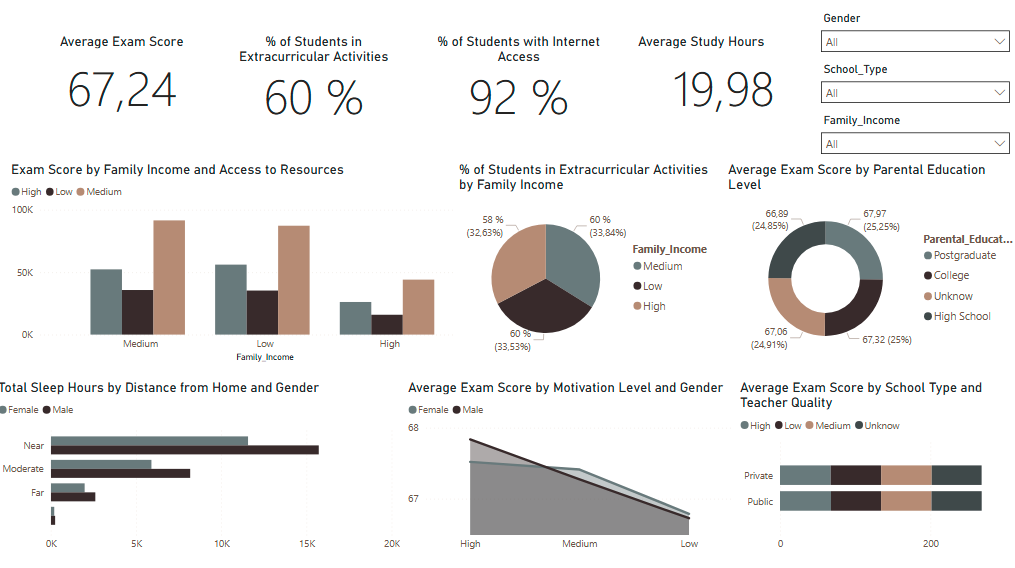

This screenshot's page, from the dashboard's own definition file:
{"tool":"powerbi","page":{"name":"Page 1","canvas":[1280,720],"ordinal":0},"visuals":[{"type":"card","title":"Average Exam Score","fields":{"Values":["Avg(StudentPerformanceFactors.Exam_Score)"]},"box":[48,48,224,112],"z":0},{"type":"card","title":"% of Students in Extracurricular Activities","fields":{"Values":["StudentPerformanceFactors.- % d'étudiants ayant des activités extra-scolaires"]},"box":[288,48,224,112],"z":1000},{"type":"card","title":"% of Students with Internet Access","fields":{"Values":["StudentPerformanceFactors.- % d'étudiants avec accès à Internet"]},"box":[544,48,224,112],"z":2000},{"type":"card","title":"Average Study Hours","fields":{"Values":["Avg(StudentPerformanceFactors.Hours_Studied)"]},"box":[800,48,224,112],"z":3000},{"type":"clusteredColumnChart","title":"Exam Score by Family Income and Access to Resources","fields":{"Category":["StudentPerformanceFactors.Family_Income"],"Series":["StudentPerformanceFactors.Access_to_Resources"],"Y":["Sum(StudentPerformanceFactors.Exam_Score)"]},"box":[16,208,608,256],"z":4000},{"type":"pieChart","title":"% of Students in Extracurricular Activities by Family Income","fields":{"Category":["StudentPerformanceFactors.Family_Income"],"Y":["StudentPerformanceFactors.- % d'étudiants ayant des activités extra-scolaires"]},"box":[576,208,336,256],"z":5000},{"type":"donutChart","title":"Average Exam Score by Parental Education Level","fields":{"Category":["StudentPerformanceFactors.Parental_Education_Level"],"Y":["Avg(StudentPerformanceFactors.Exam_Score)"]},"box":[912,208,368,256],"z":6000},{"type":"clusteredBarChart","title":"Total Sleep Hours by Distance from Home and Gender","fields":{"Category":["StudentPerformanceFactors.Distance_from_Home"],"Series":["StudentPerformanceFactors.Gender"],"Y":["Sum(StudentPerformanceFactors.Sleep_Hours)"]},"box":[0,480,512,224],"z":7000},{"type":"areaChart","title":"Average Exam Score by Motivation Level and Gender","fields":{"Y":["Avg(StudentPerformanceFactors.Exam_Score)"],"Category":["StudentPerformanceFactors.Motivation_Level"],"Series":["StudentPerformanceFactors.Gender"]},"box":[512,480,416,224],"z":8000},{"type":"barChart","title":"Average Exam Score by School Type and Teacher Quality","fields":{"Category":["StudentPerformanceFactors.School_Type"],"Y":["Avg(StudentPerformanceFactors.Exam_Score)"],"Series":["StudentPerformanceFactors.Teacher_Quality"]},"box":[928,480,352,224],"z":9000},{"type":"slicer","fields":{"Values":["StudentPerformanceFactors.Gender"]},"box":[1024,16,256,64],"z":10000},{"type":"slicer","fields":{"Values":["StudentPerformanceFactors.School_Type"]},"box":[1024,80,256,64],"z":11000},{"type":"slicer","fields":{"Values":["StudentPerformanceFactors.Family_Income"]},"box":[1024,144,256,64],"z":12000}]}

Visuals, with their boxes in screenshot pixels (x1, y1, x2, y2), scaled from the page's 1280x720 canvas onto the 1015x568 screenshot:
"Average Exam Score" card: [x1=38, y1=38, x2=216, y2=126]
"% of Students in Extracurricular Activities" card: [x1=228, y1=38, x2=406, y2=126]
"% of Students with Internet Access" card: [x1=431, y1=38, x2=609, y2=126]
"Average Study Hours" card: [x1=634, y1=38, x2=812, y2=126]
"Exam Score by Family Income and Access to Resources" clusteredColumnChart: [x1=13, y1=164, x2=495, y2=366]
"% of Students in Extracurricular Activities by Family Income" pieChart: [x1=457, y1=164, x2=723, y2=366]
"Average Exam Score by Parental Education Level" donutChart: [x1=723, y1=164, x2=1014, y2=366]
"Total Sleep Hours by Distance from Home and Gender" clusteredBarChart: [x1=0, y1=379, x2=406, y2=555]
"Average Exam Score by Motivation Level and Gender" areaChart: [x1=406, y1=379, x2=736, y2=555]
"Average Exam Score by School Type and Teacher Quality" barChart: [x1=736, y1=379, x2=1014, y2=555]
slicer - StudentPerformanceFactors.Gender: [x1=812, y1=13, x2=1014, y2=63]
slicer - StudentPerformanceFactors.School_Type: [x1=812, y1=63, x2=1014, y2=114]
slicer - StudentPerformanceFactors.Family_Income: [x1=812, y1=114, x2=1014, y2=164]
